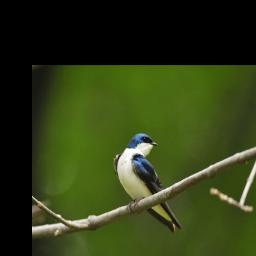Swallow: (112, 132, 183, 233)
